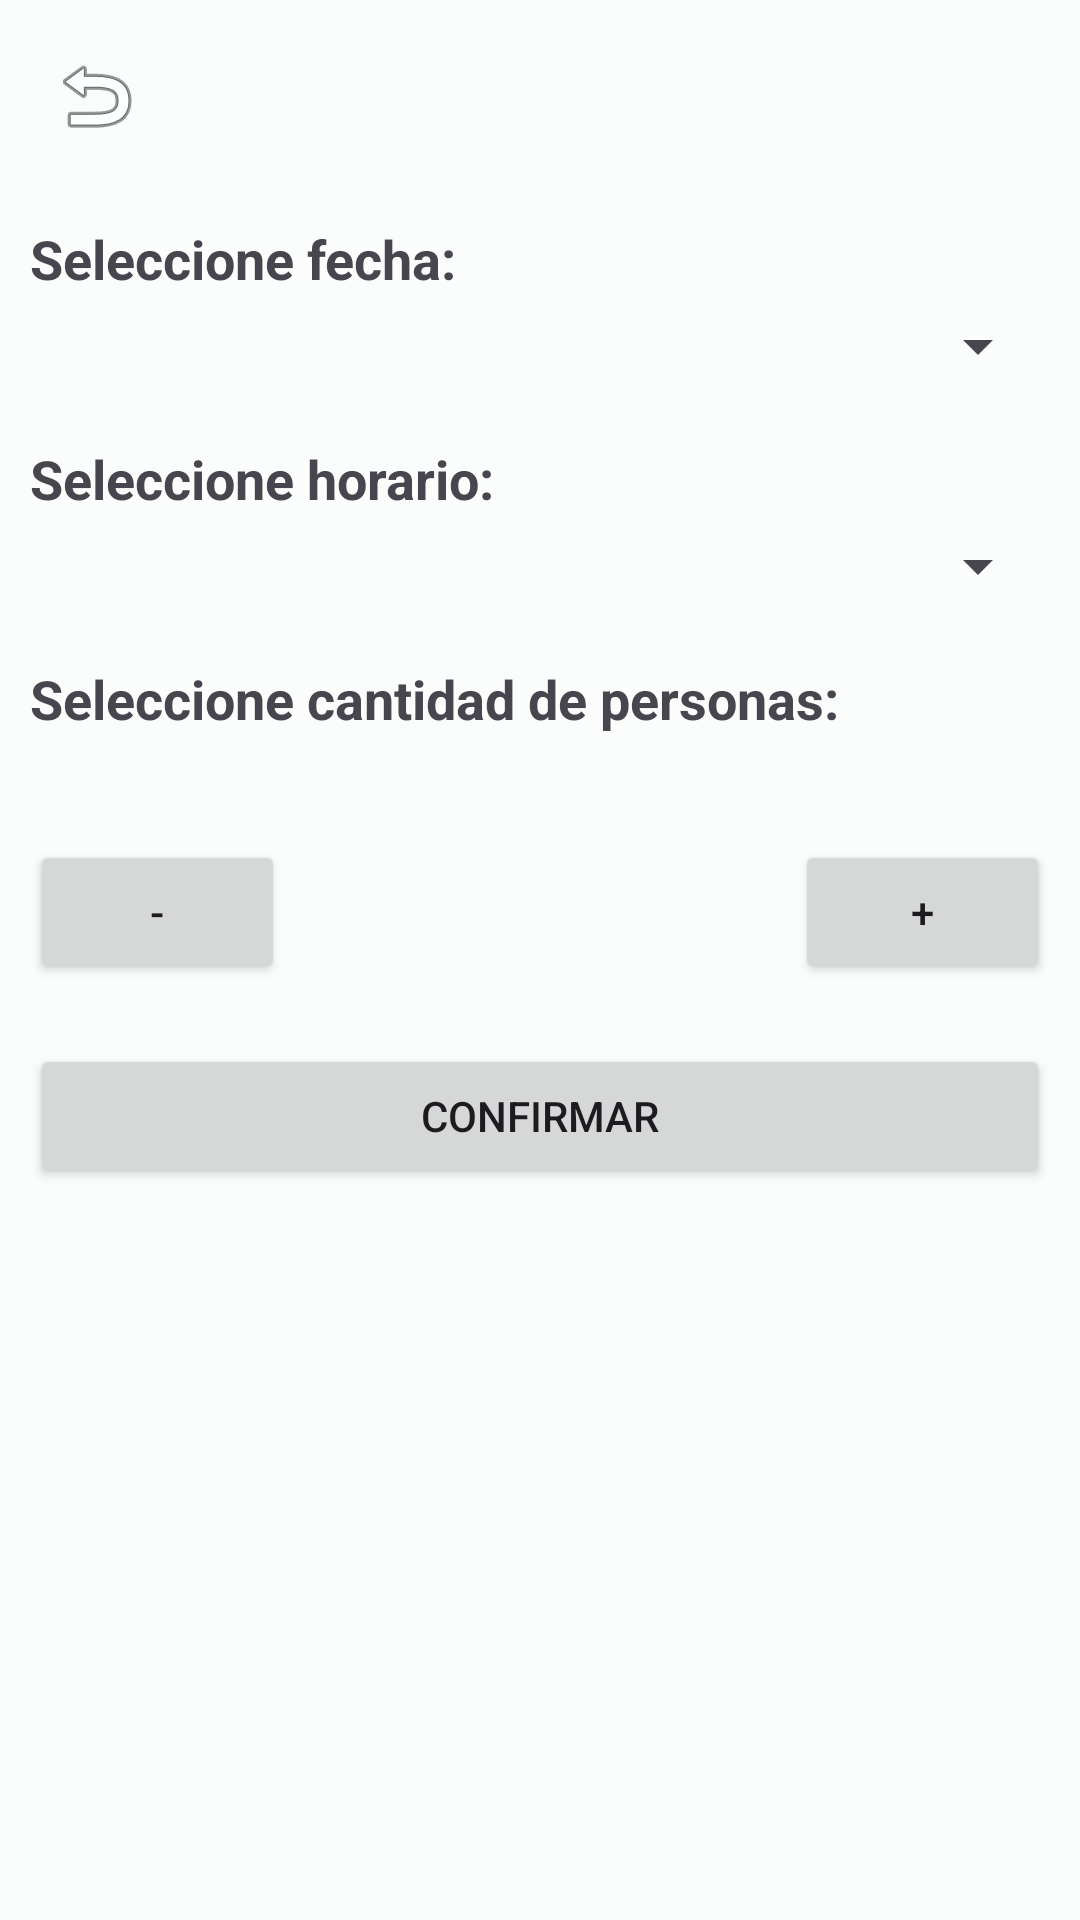

Named icons in this screenshot (1080px x 1920px) and their centers, point (x, y):
Volver: point (97, 96)
